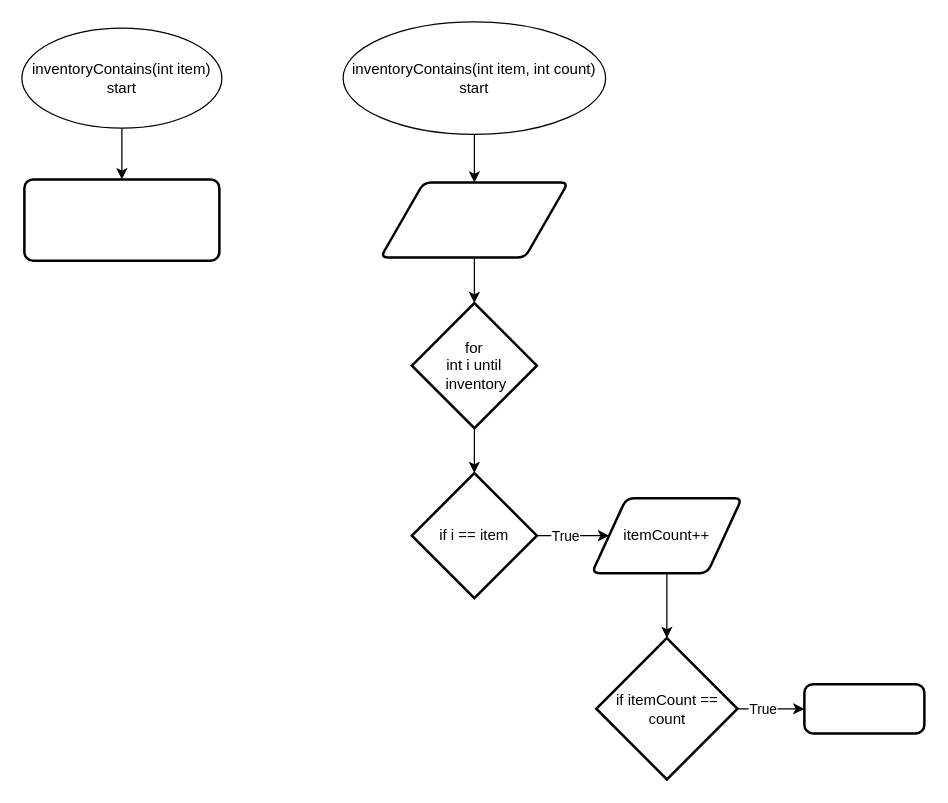
Some shapes in this 948 by 803 pixel diagram are drawn without their labels. Each missing label, with the centre of its shape:
int itemCount = 0: point 474,219
inventory.contains(item): point 121,219
return True: point 863,708
